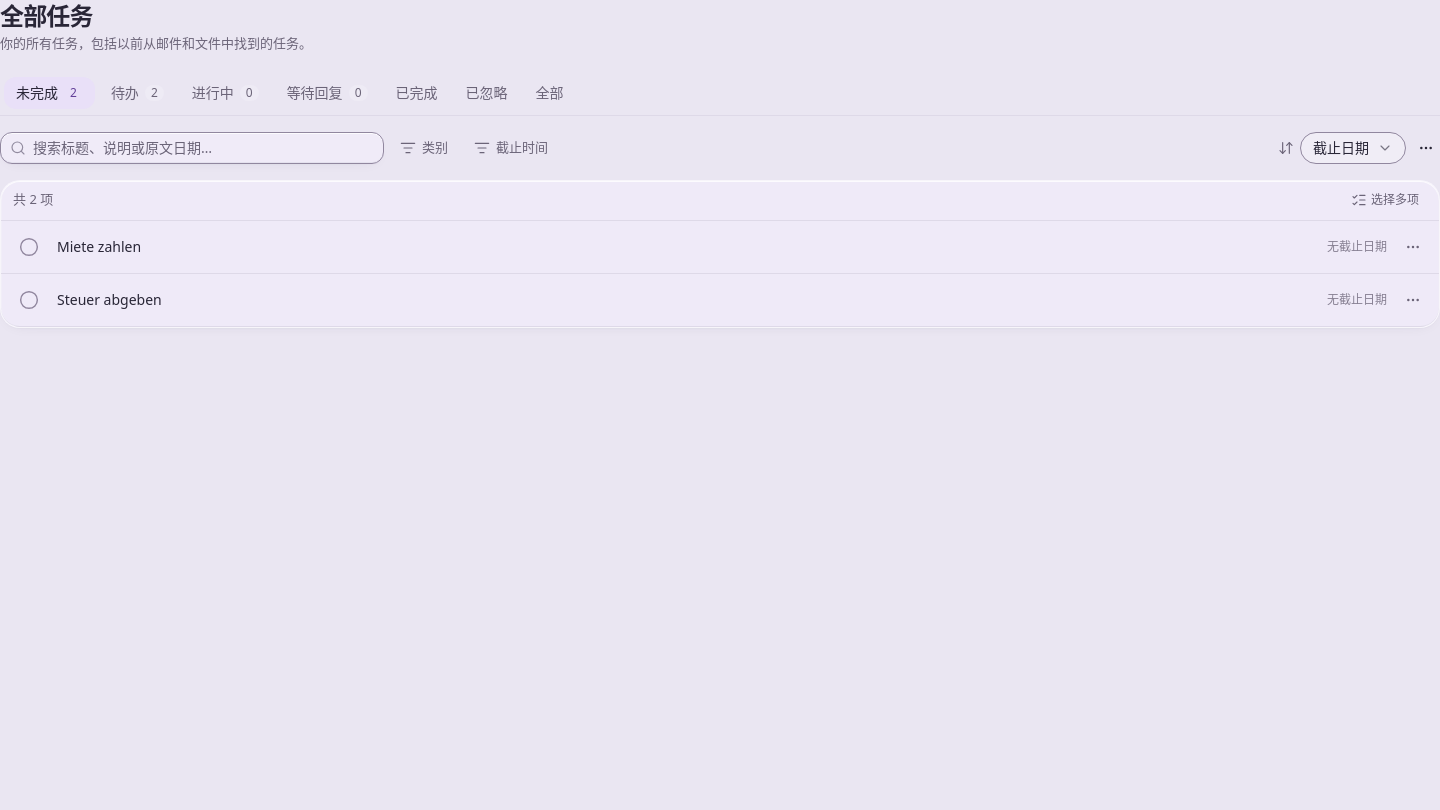
Test: TasksPage › moves the selected tasks to another day at once and ends the selection
Click the button "选择多项". click: click(1385, 200)
box: [1343, 188, 1427, 212]
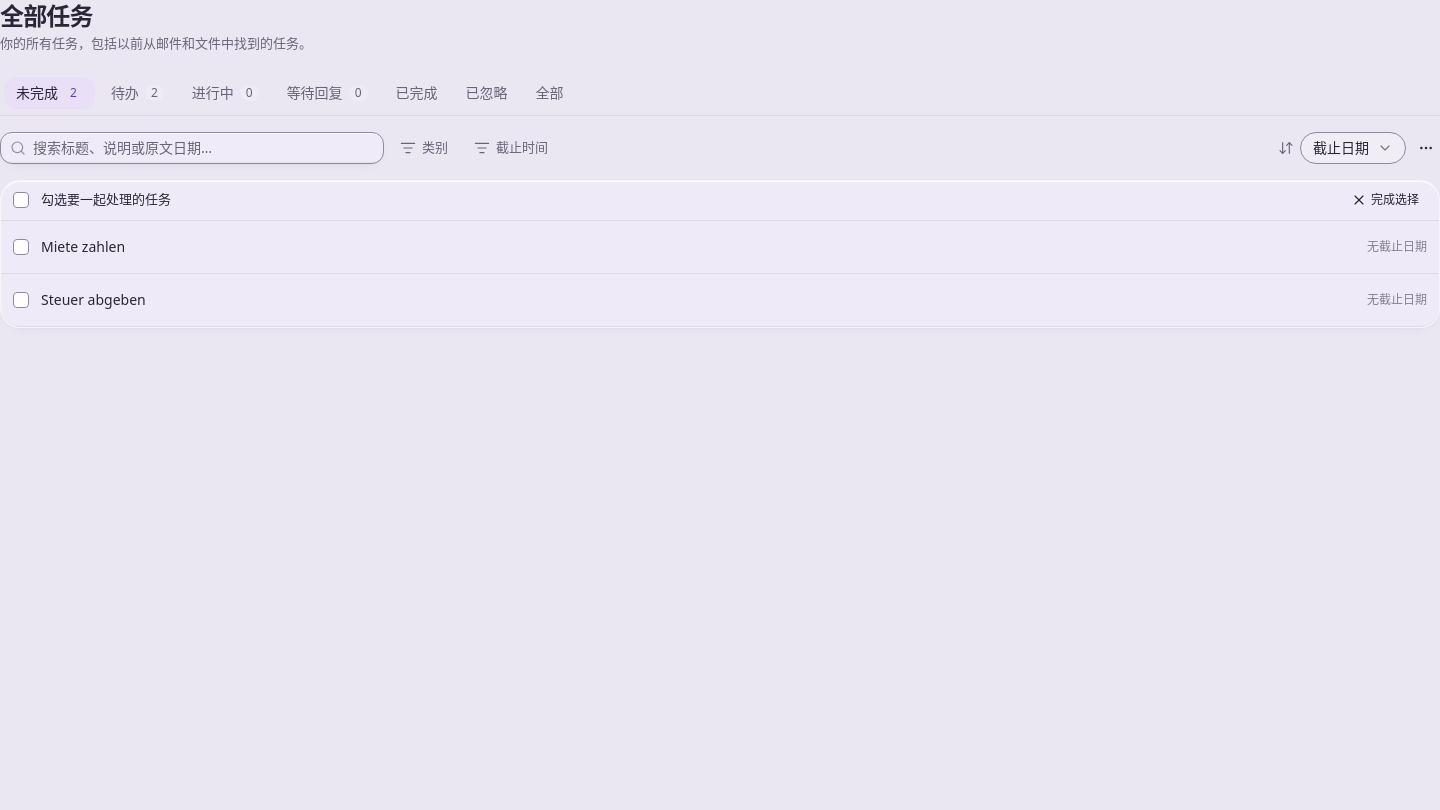
Click the checkbox named "选择「Miete zahlen」". click: click(21, 246)
box: [13, 238, 29, 254]
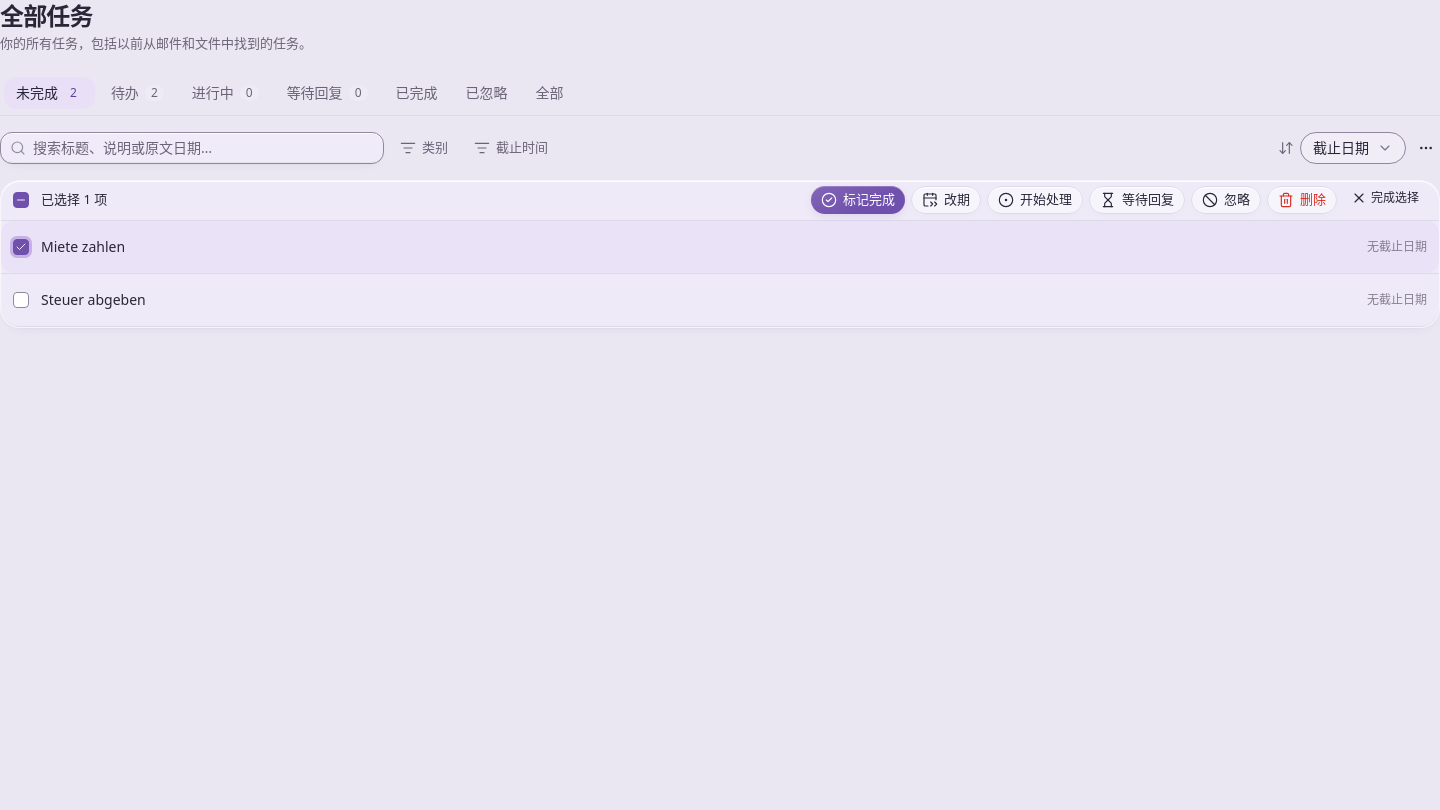
Click the checkbox named "选择「Steuer abgeben」". click: click(21, 300)
box: [13, 292, 29, 308]
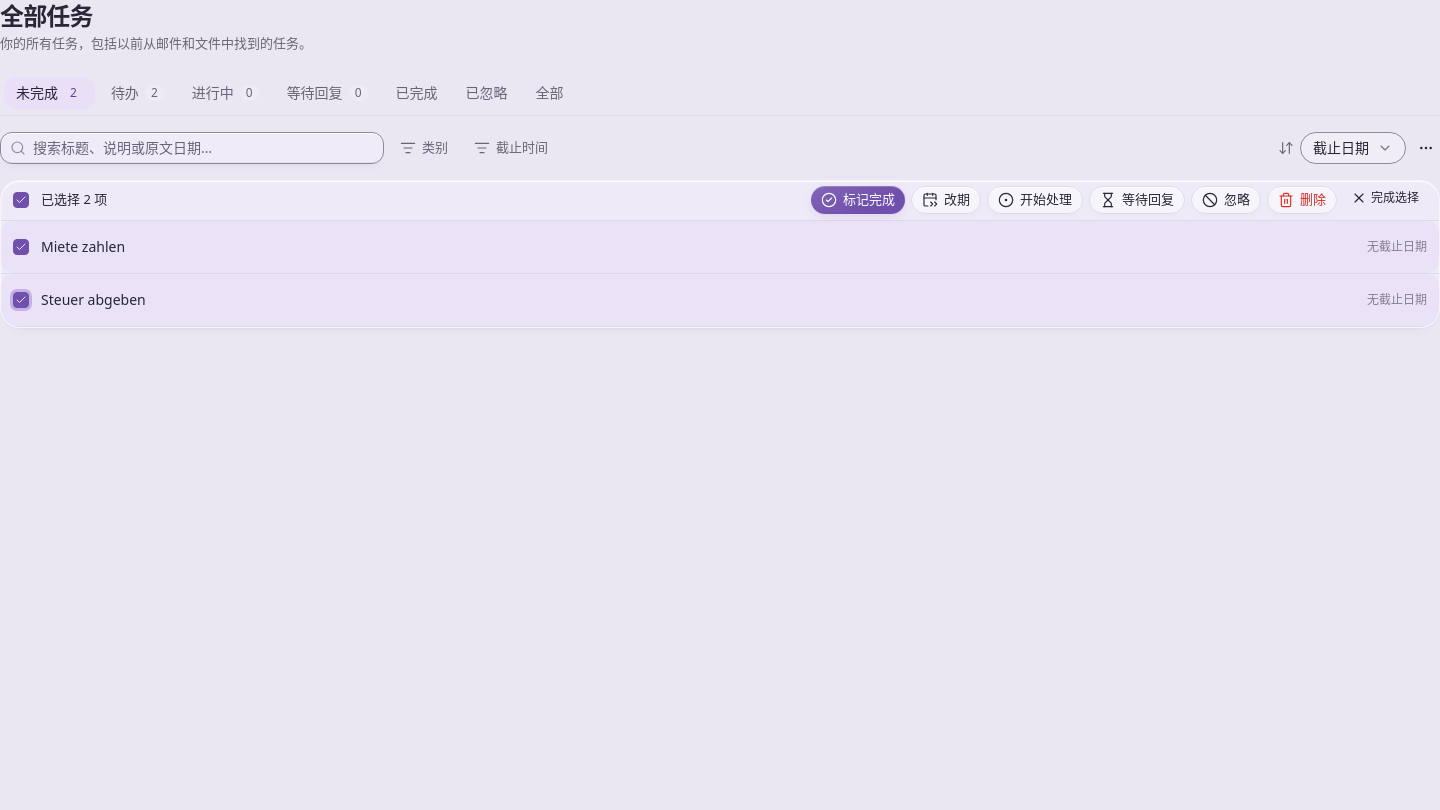
Click the button "改期". click: click(946, 200)
box: [911, 186, 981, 214]
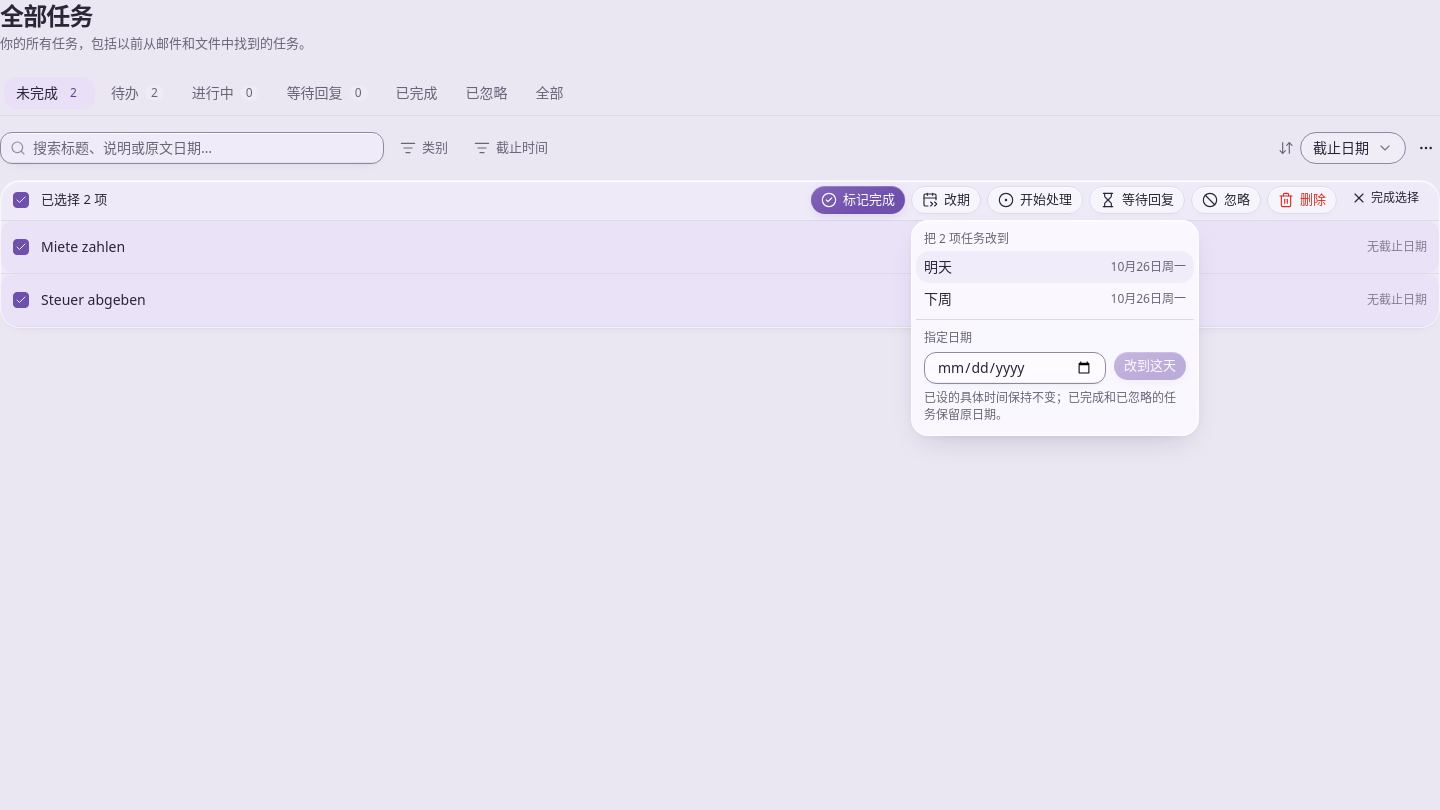
Click the button "明天". click: click(1148, 266)
box: [916, 251, 1194, 283]
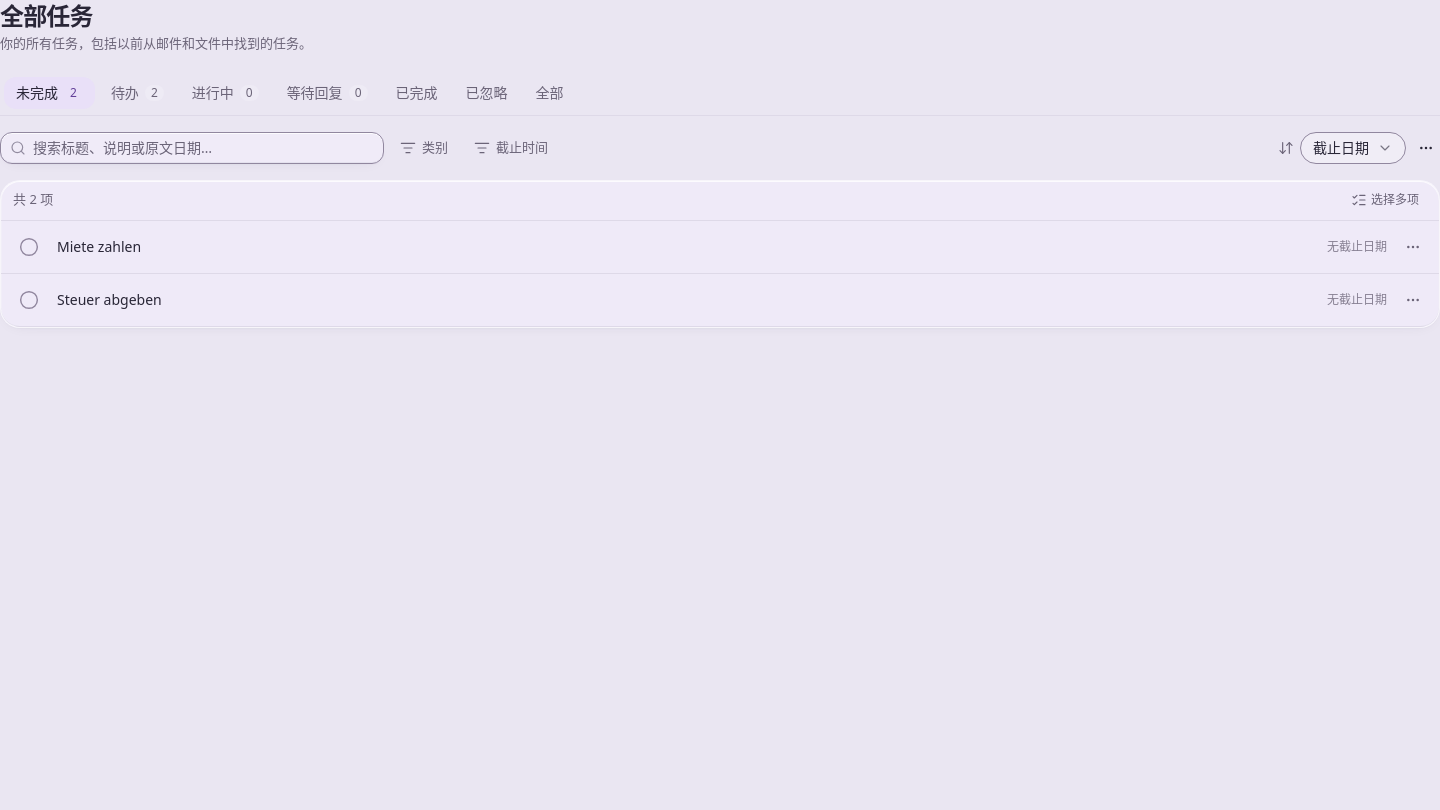
Now the button "选择多项" is shown, box [1343, 188, 1427, 212]
